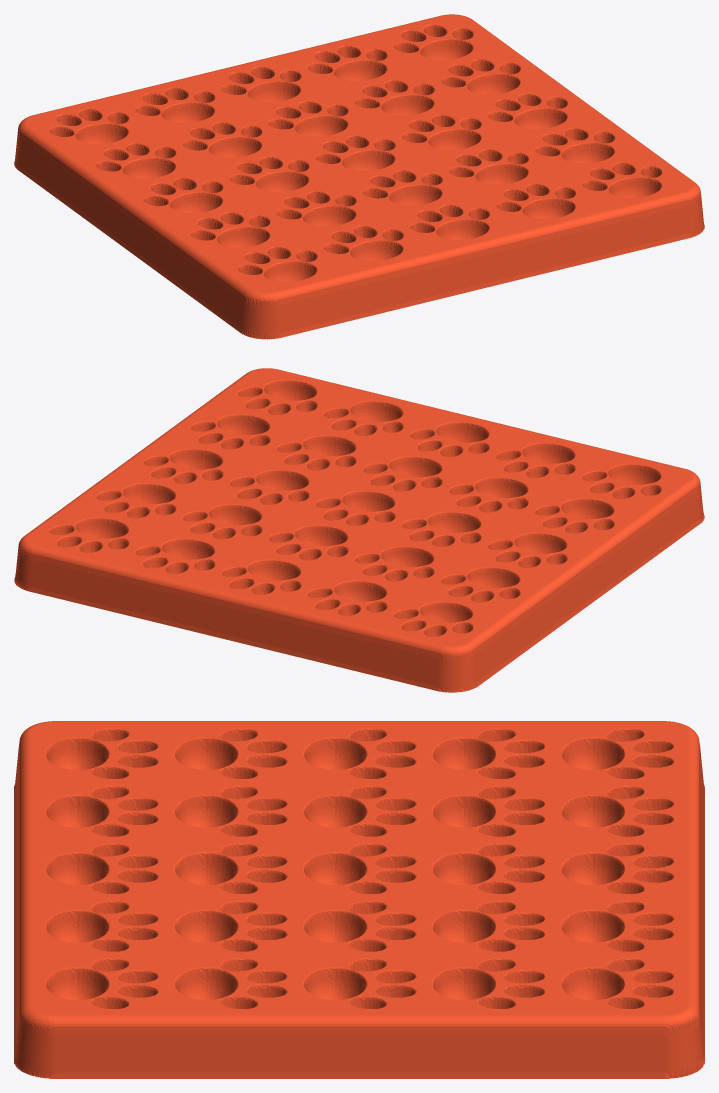
Rendered from mold.glb.
3 views of the same model, one above another, from view 1: azimuth 30°, elevation 25°; view 2: azimuth 150°, elevation 25°; view 3: azimuth 270°, elevation 25° (orthographic). The views are drawn at different scales.
Visible parts, largest first — view 1: geometry_0; view 2: geometry_0; view 3: geometry_0.
Part boxes in pixels (bbox=[...]): geometry_0: bbox=[14, 14, 704, 339]; geometry_0: bbox=[14, 368, 704, 692]; geometry_0: bbox=[14, 721, 704, 1078].
Size of the model in its own units: 0.1584 by 0.0136 by 0.1506.
